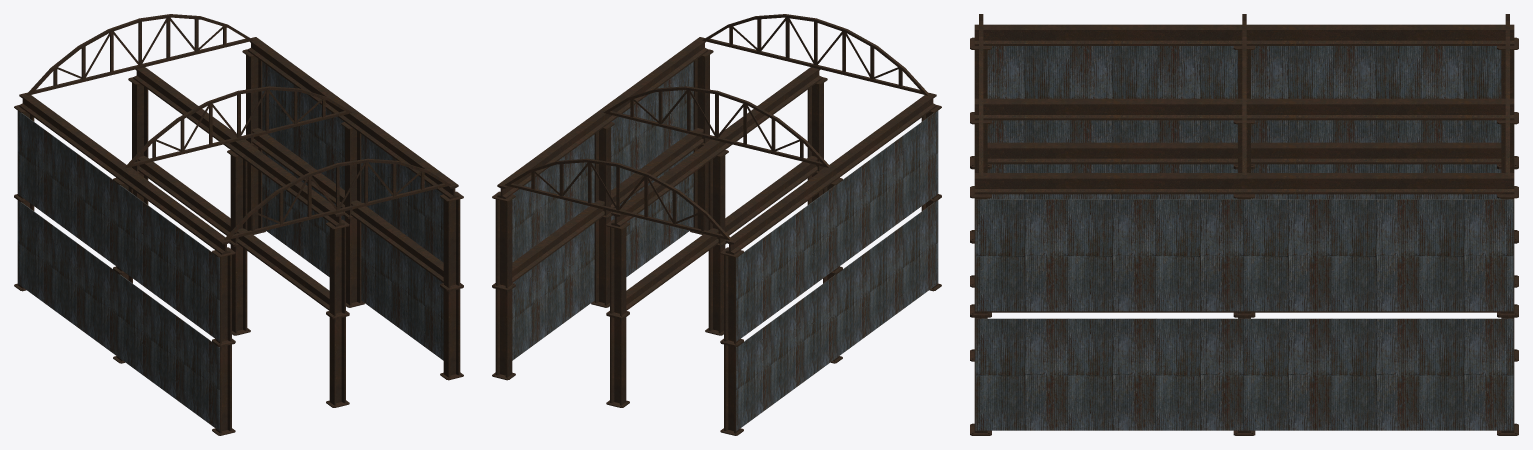
The model's file is warehouse_hl_1.dae.
3 views of the same model, side by side, from view 1: azimuth 30°, elevation 25°; view 2: azimuth 150°, elevation 25°; view 3: azimuth 270°, elevation 25° (orthographic). The views are drawn at different scales.
Visible parts, largest first — view 1: warehouse_hl_1; view 2: warehouse_hl_1; view 3: warehouse_hl_1.
Part boxes in pixels (x1,y1,x2,y2): warehouse_hl_1: (14, 14, 463, 435); warehouse_hl_1: (492, 14, 941, 435); warehouse_hl_1: (970, 14, 1518, 435).
Bounding box in the file's own units: 8.6 × 12.5 × 8.02.
2 materials, 2 textured.
